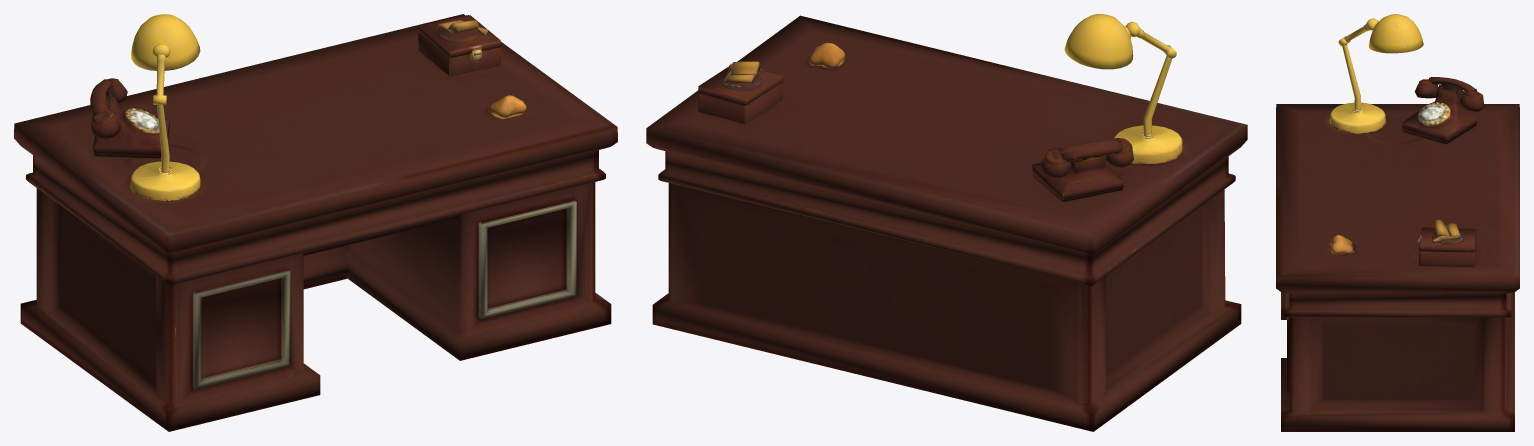
The model's file is Bank_DirectorDesk.glb.
The picture shows the model from 3 angles, left to right: view 1: azimuth 30°, elevation 25°; view 2: azimuth 150°, elevation 25°; view 3: azimuth 270°, elevation 25°; orthographic projection. The views are drawn at different scales.
Parts seen in each view (by area): view 1: tripo_node_51ece6b7-1a7c-45af-868d-6fa8f4bec045; view 2: tripo_node_51ece6b7-1a7c-45af-868d-6fa8f4bec045; view 3: tripo_node_51ece6b7-1a7c-45af-868d-6fa8f4bec045.
Boxes of the visible parts, bbox=[...] form: tripo_node_51ece6b7-1a7c-45af-868d-6fa8f4bec045: bbox=[14, 14, 617, 431]; tripo_node_51ece6b7-1a7c-45af-868d-6fa8f4bec045: bbox=[646, 14, 1247, 431]; tripo_node_51ece6b7-1a7c-45af-868d-6fa8f4bec045: bbox=[1276, 14, 1519, 431].
Size of the model in its own units: 1 by 0.7333 by 0.5965.
Materials: 1 (1 with a texture image).
